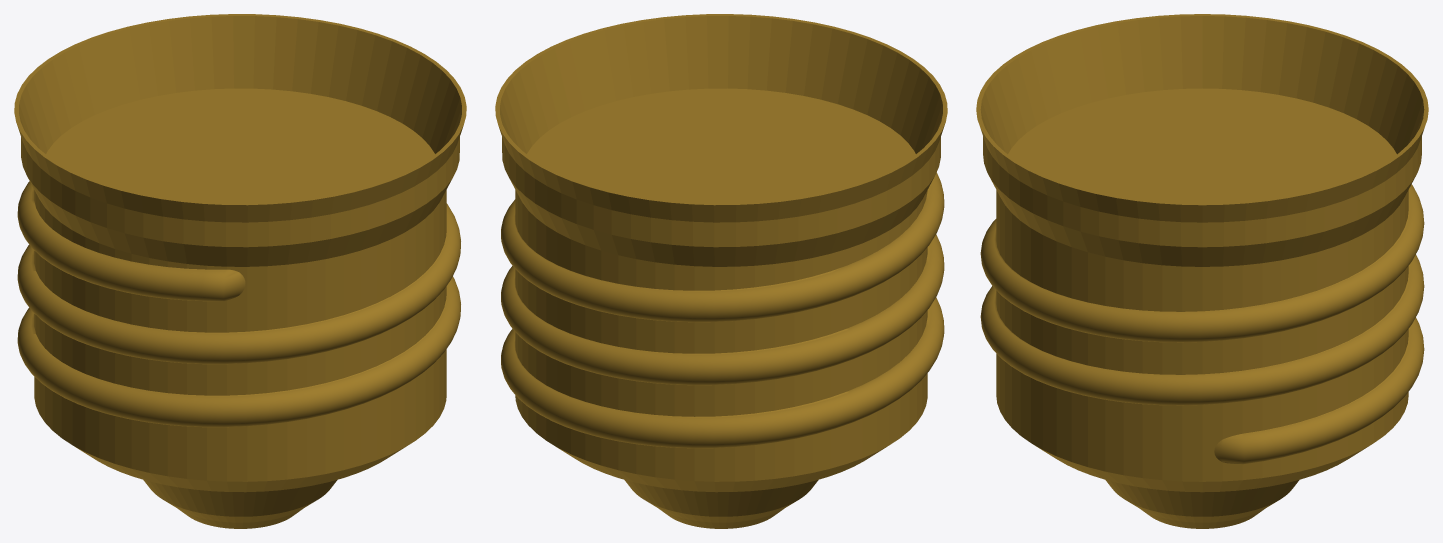
The model's file is bulb_pin.glb.
The picture shows the model from 3 angles, left to right: view 1: azimuth 30°, elevation 25°; view 2: azimuth 150°, elevation 25°; view 3: azimuth 270°, elevation 25°; orthographic projection.
Visible parts, largest first — view 1: bulb_pin; view 2: bulb_pin; view 3: bulb_pin.
Boxes of the visible parts, x1,y1,x2,y2 form: bulb_pin: (14, 14, 466, 528); bulb_pin: (495, 14, 947, 528); bulb_pin: (976, 14, 1428, 528).
Bounding box in the file's own units: 0.6489 × 0.642 × 0.6489.
